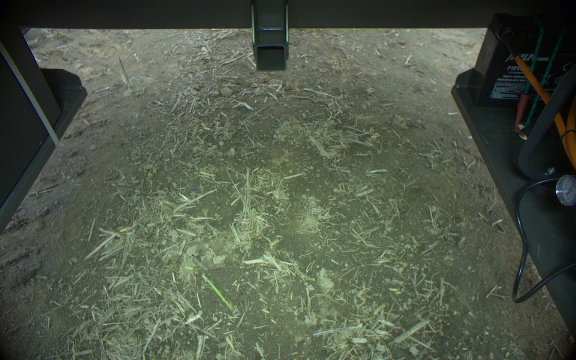aspa: (182, 264, 235, 315), (114, 55, 136, 94)
